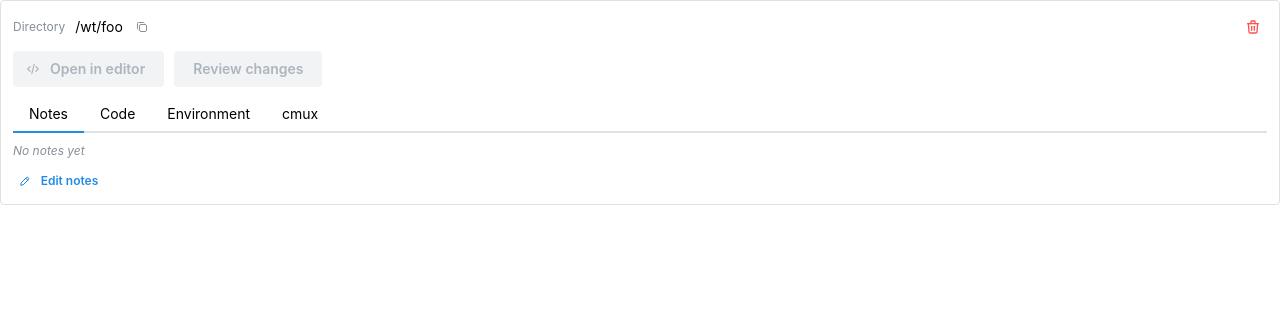
Code tab summary › explains an unavailable merge base
Click the tab "Code" at (118, 115), box [84,97,151,133]
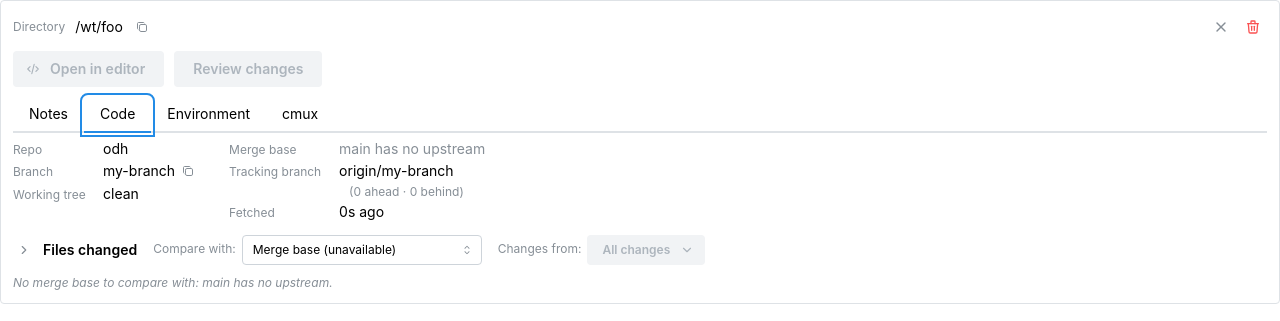
Expected: the text "main has no upstream" is shown, [339,140,485,157]
